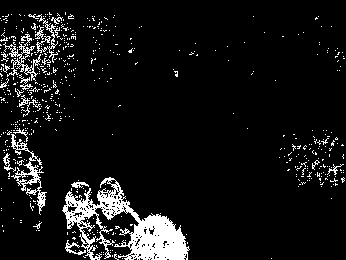person: (2, 133, 47, 231), (93, 176, 142, 260), (60, 179, 109, 260)
